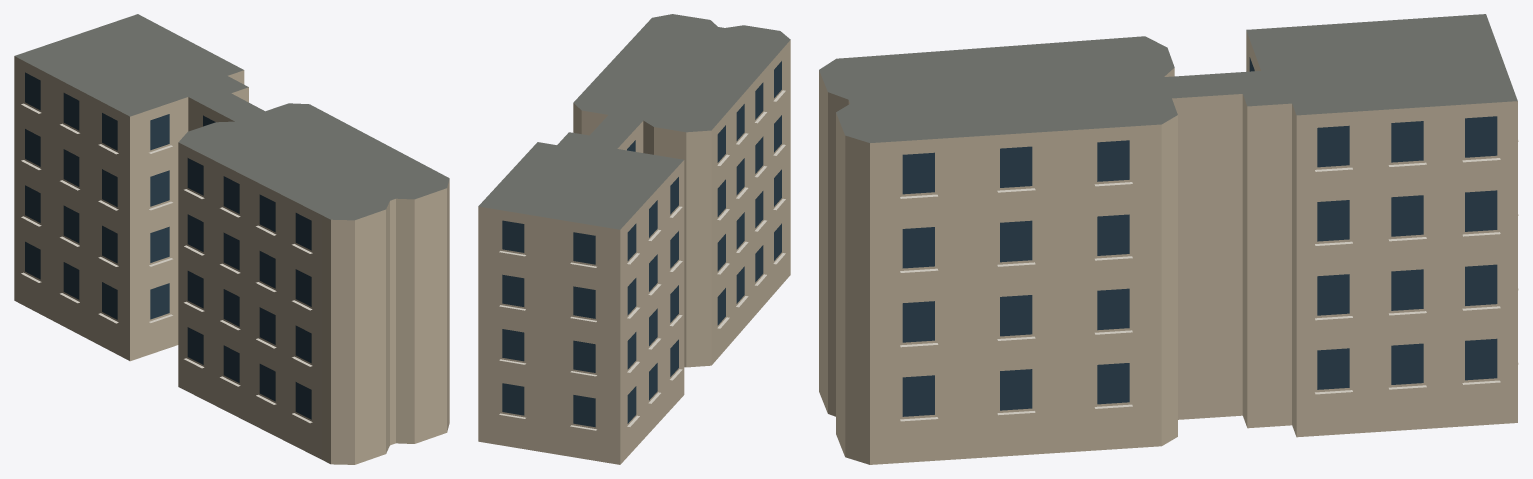
The picture shows the model from 3 angles, left to right: view 1: azimuth 30°, elevation 25°; view 2: azimuth 150°, elevation 25°; view 3: azimuth 270°, elevation 25°; orthographic projection. The views are drawn at different scales.
Parts seen in each view (by area): view 1: Footprint 0, Inferred window bays, Window sills; view 2: Footprint 0, Inferred window bays, Window sills; view 3: Footprint 0, Inferred window bays, Window sills.
Boxes of the visible parts, bbox=[...] form: Footprint 0: bbox=[14, 14, 449, 464]; Inferred window bays: bbox=[25, 72, 311, 419]; Window sills: bbox=[21, 103, 312, 423]; Footprint 0: bbox=[478, 14, 790, 464]; Inferred window bays: bbox=[502, 61, 781, 427]; Window sills: bbox=[499, 90, 785, 430]; Footprint 0: bbox=[819, 14, 1517, 464]; Inferred window bays: bbox=[902, 57, 1497, 416]; Window sills: bbox=[900, 140, 1518, 421].
Size of the model in its own units: 11.74 by 13.44 by 26.49.
